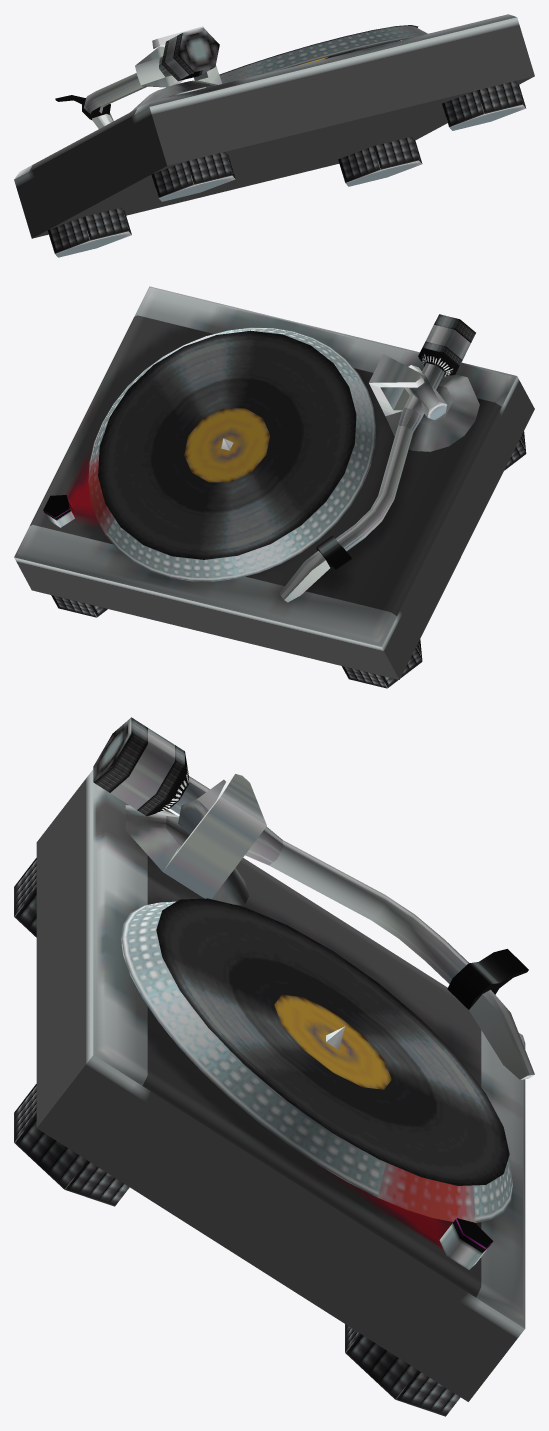
Rendered from DJ.ico.obj.
3 views of the same model, one above another, from view 1: azimuth 30°, elevation 25°; view 2: azimuth 150°, elevation 25°; view 3: azimuth 270°, elevation 25° (orthographic). The views are drawn at different scales.
Size of the model in its own units: 3.77 by 2.85 by 2.9.
1 material, 1 textured.
